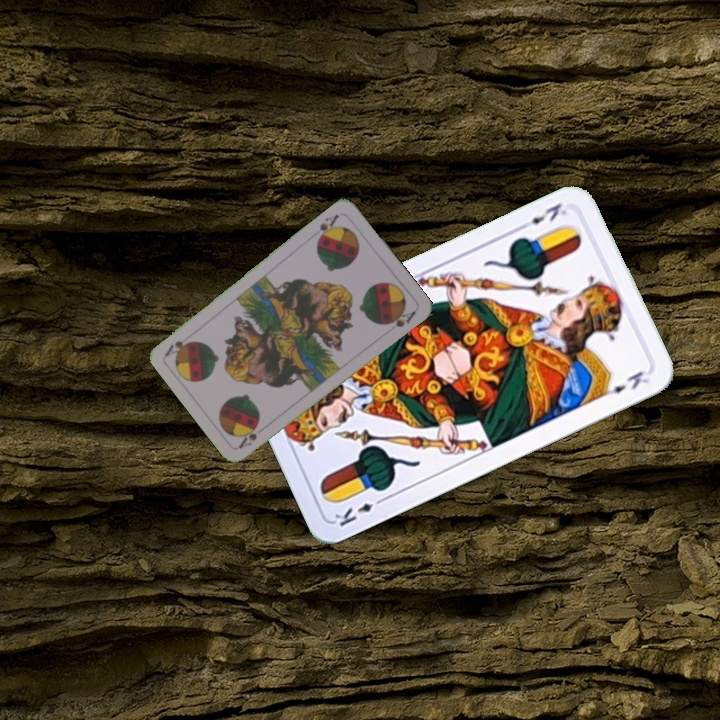EK: (330, 493, 388, 530), (516, 198, 570, 233)
SA: (234, 418, 263, 451), (314, 210, 342, 244)
